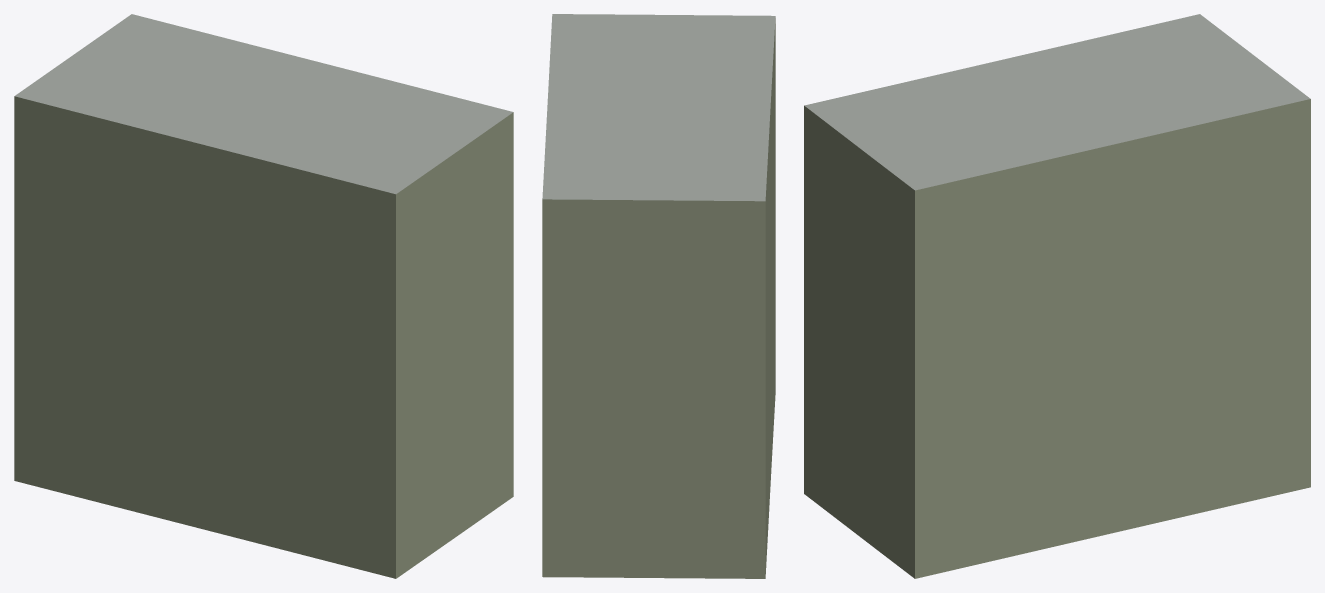
File: nyc-1024646-0.glb
3 renders of one model, left to right at view 1: azimuth 30°, elevation 25°; view 2: azimuth 150°, elevation 25°; view 3: azimuth 270°, elevation 25°, orthographic. The views are drawn at different scales.
Visible parts, largest first — view 1: nyc-1024646-0; view 2: nyc-1024646-0; view 3: nyc-1024646-0.
Part boxes in pixels (x1,y1,x2,y2): nyc-1024646-0: (14,14,513,578); nyc-1024646-0: (542,14,775,578); nyc-1024646-0: (804,14,1310,578).
Bounding box in the file's own units: 27.77 × 28.49 × 33.68.
